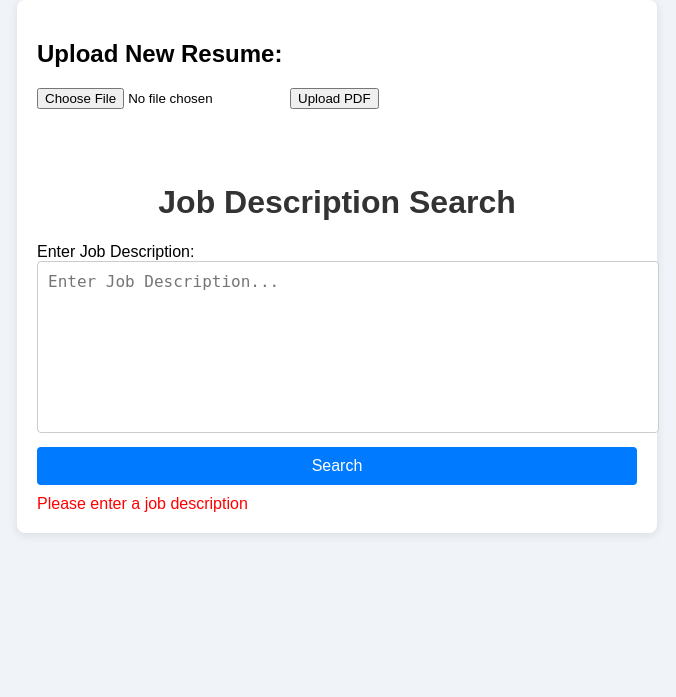
Test: App Component › handles job description search
Type "Software Engineer" into the text box labelled "Enter Job Description:" at (348, 347), box [37,261,659,433]
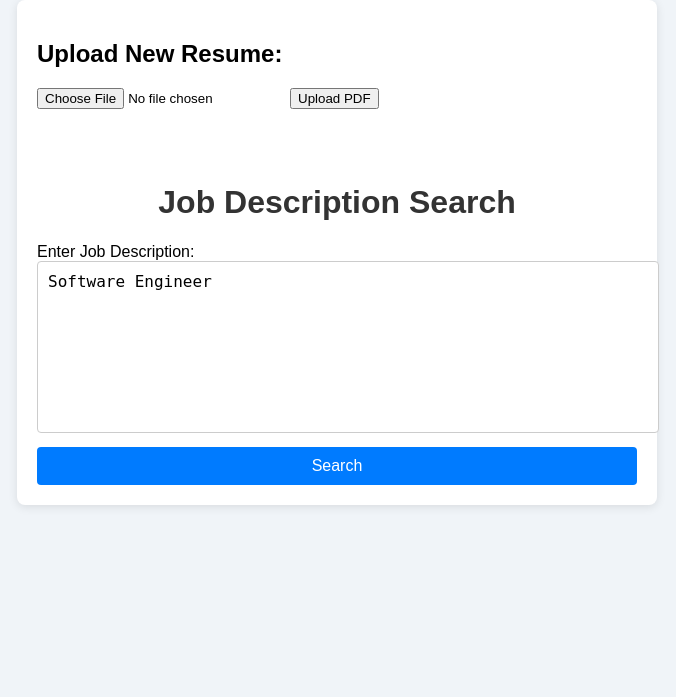
Click the button "Search" at (337, 466), box [37,447,637,485]
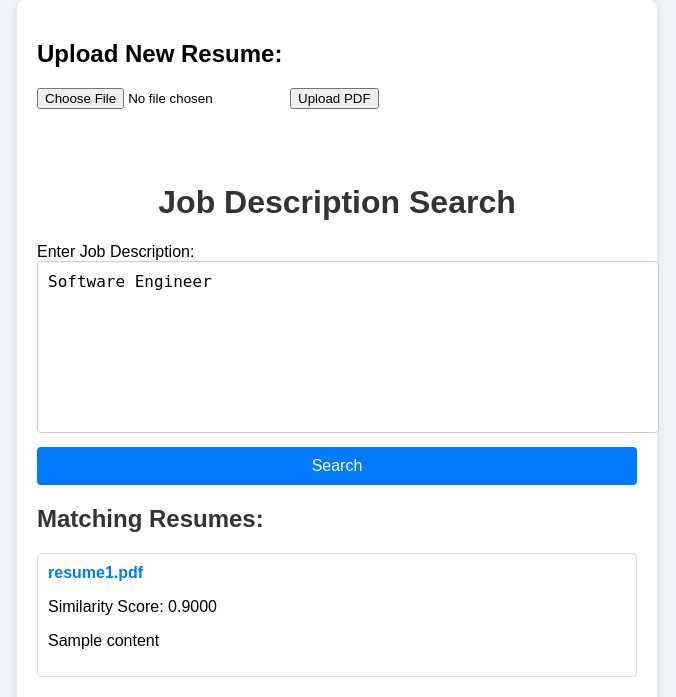
Now the heading "Matching Resumes:" is shown, box [37,505,264,532]
Now the link "resume1.pdf" is shown, box [48,564,143,581]
